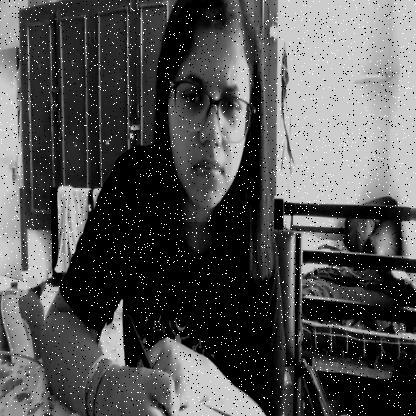Normal: (163, 0, 254, 222)
